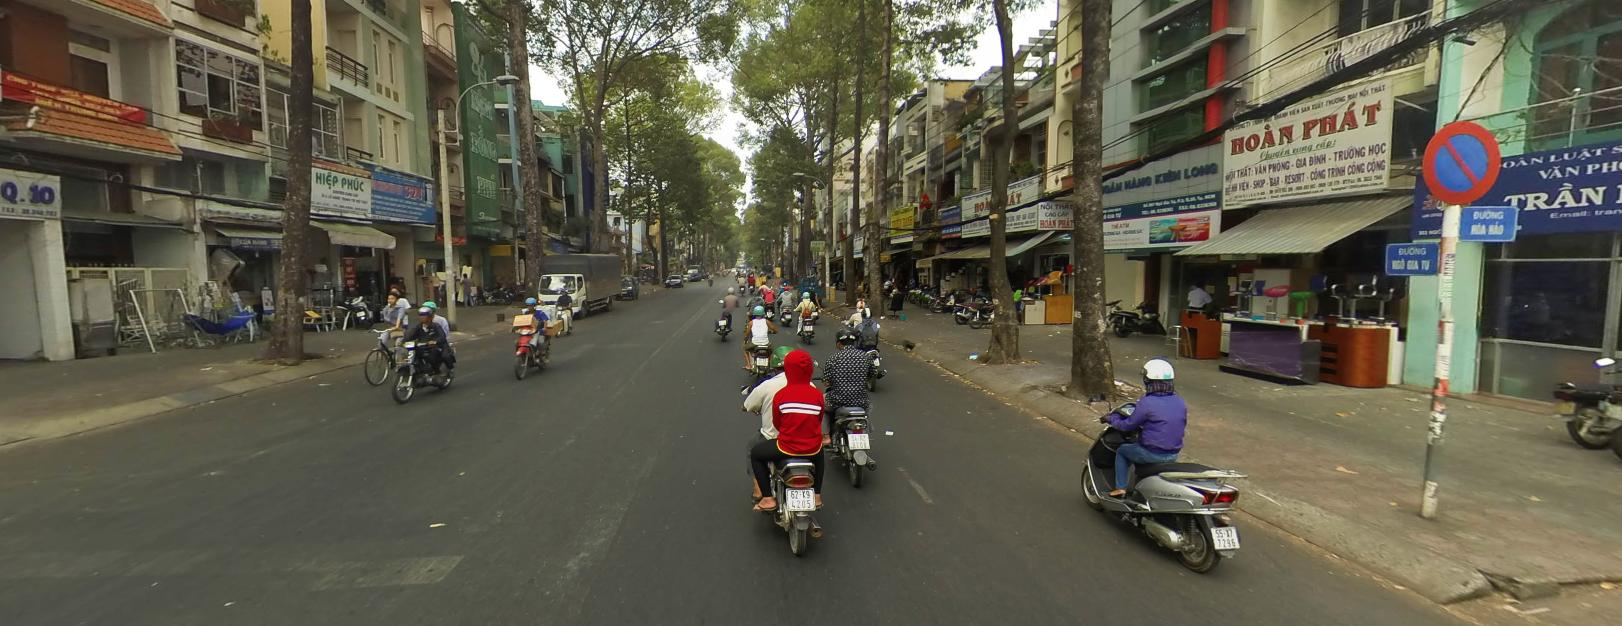Cam dung va do: (1421, 117, 1501, 203)
